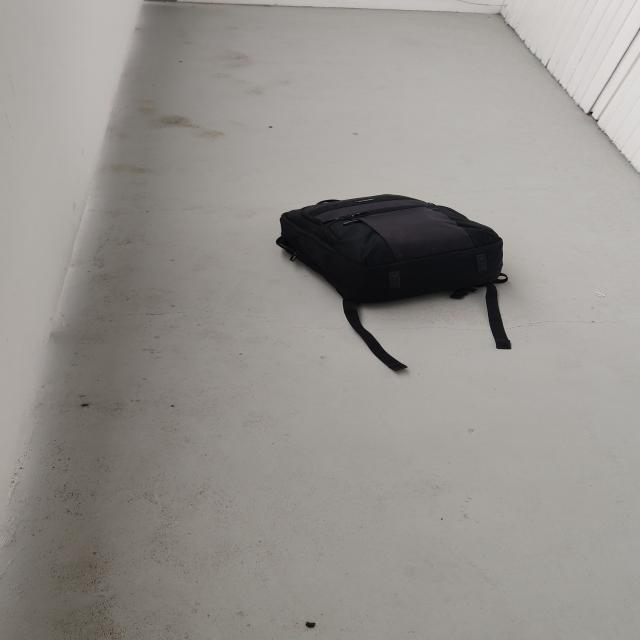backpack: (264, 189, 514, 312)
